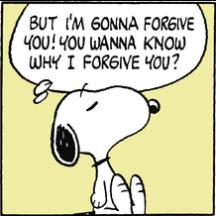snoopy: (51, 82, 162, 214)
